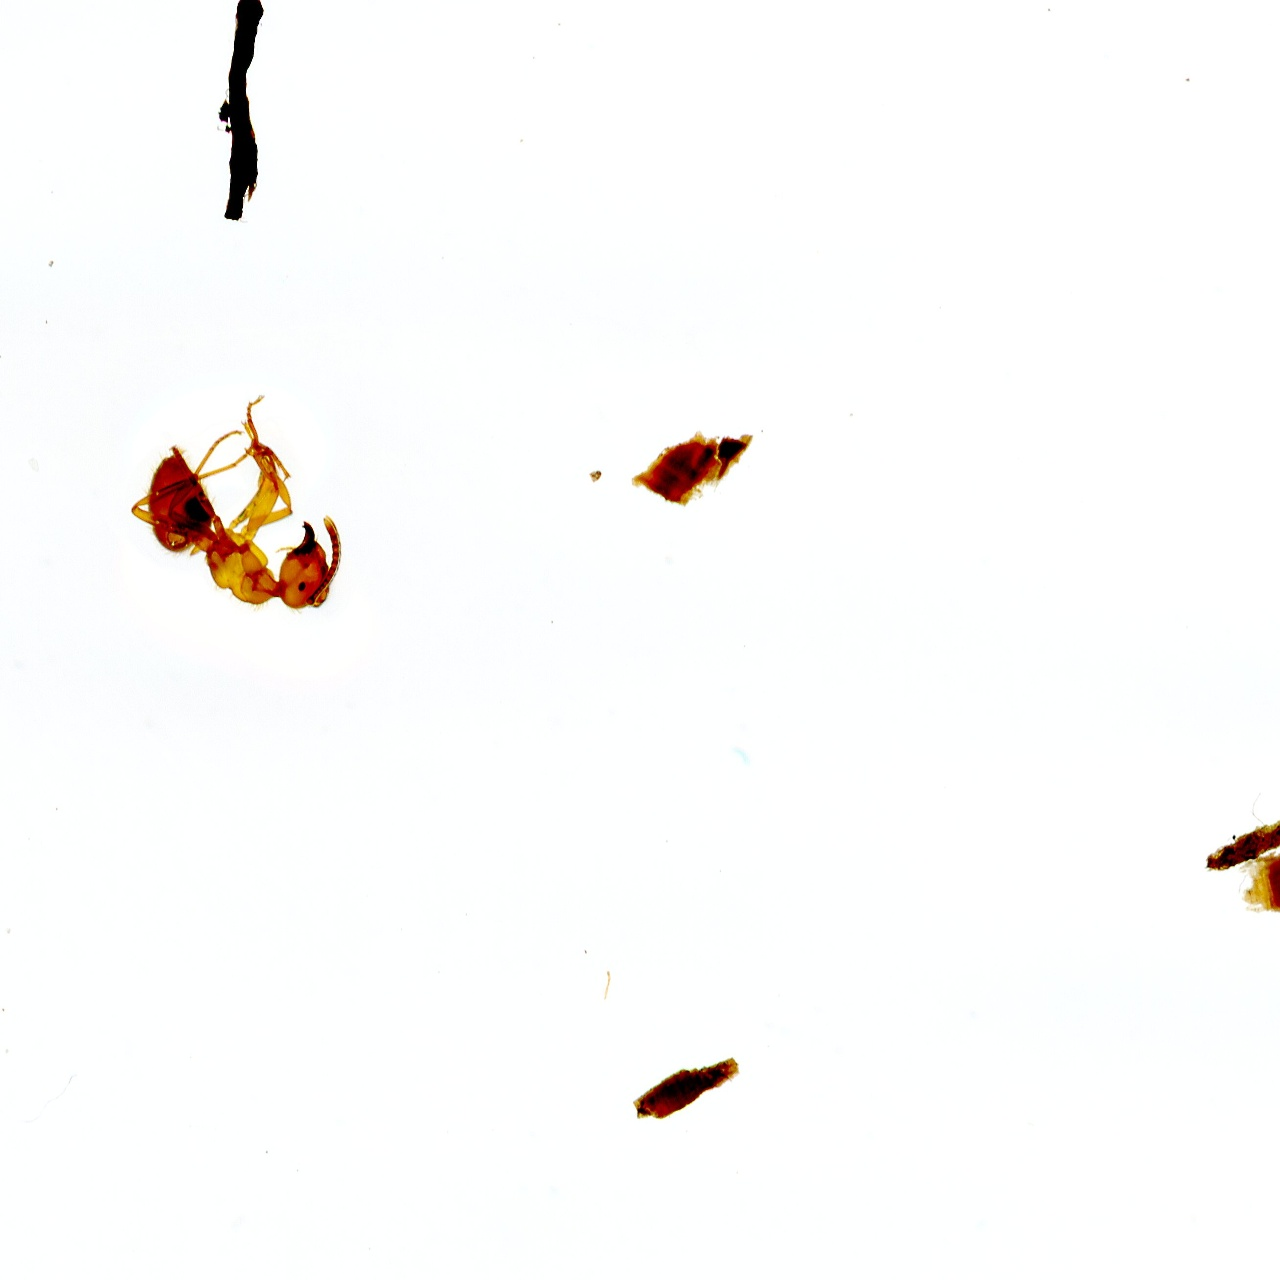arthropod: (124, 384, 353, 624)
